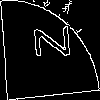Z: (25, 25, 71, 59)
